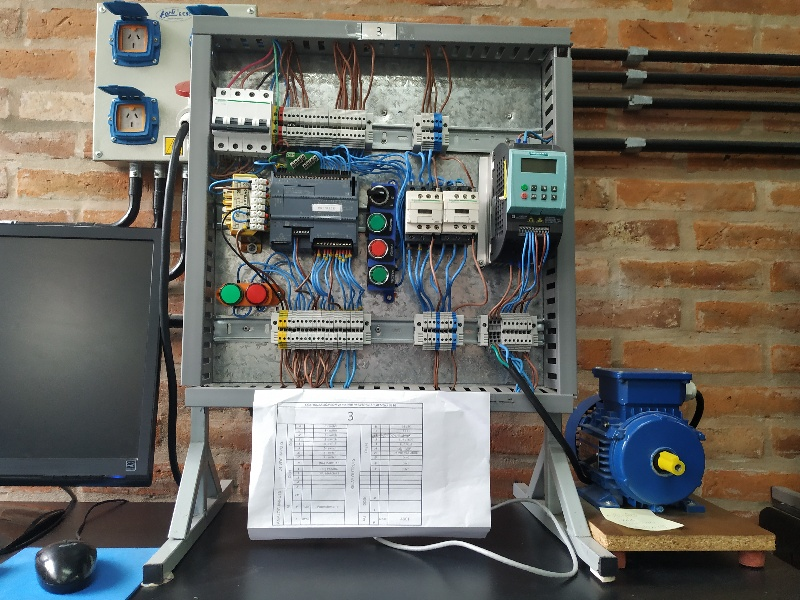Tablero 3: (206, 27, 573, 413)
